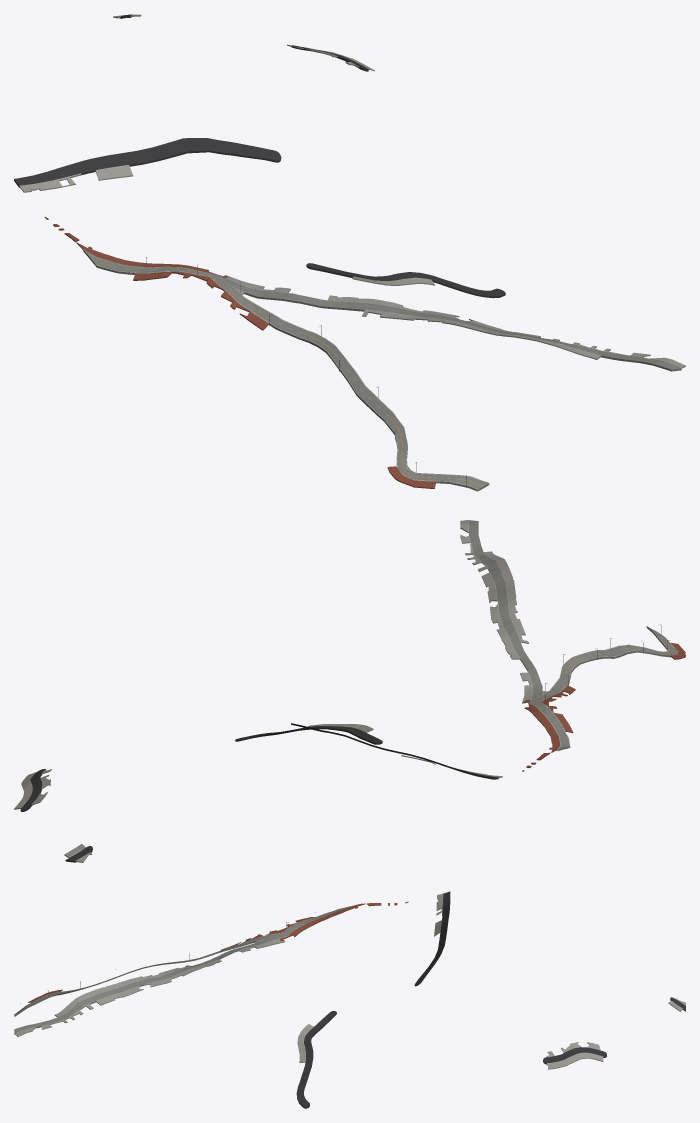
The picture shows the model from 3 angles, top to bottom: view 1: azimuth 30°, elevation 25°; view 2: azimuth 150°, elevation 25°; view 3: azimuth 270°, elevation 25°; orthographic projection. The views are drawn at different scales.
Bounding box in the file's own units: 297 × 87.86 × 584.
